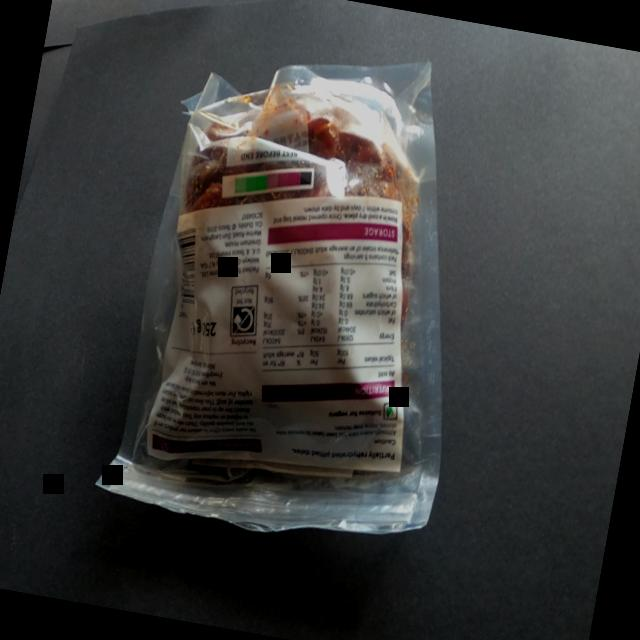Medjooldates: (81, 9, 526, 582)
